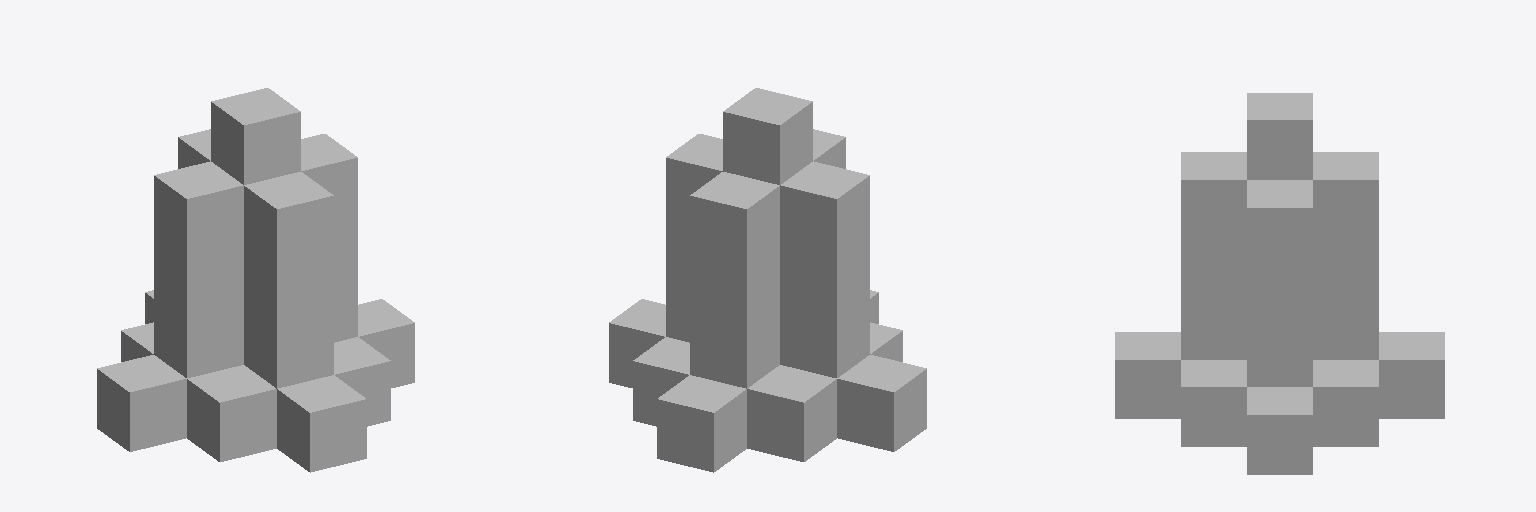
The model's file is stacja-5.obj.
3 views of the same model, side by side, from view 1: azimuth 30°, elevation 25°; view 2: azimuth 150°, elevation 25°; view 3: azimuth 270°, elevation 25° (orthographic).
Parts seen in each view (by area): view 1: object 1; view 2: object 1; view 3: object 1.
Boxes of the visible parts, box(x1,y1,x2,y2) form: object 1: box(97, 88, 414, 472); object 1: box(609, 88, 926, 472); object 1: box(1115, 93, 1444, 474).
Size of the model in its own units: 0.5 by 0.5 by 0.5.